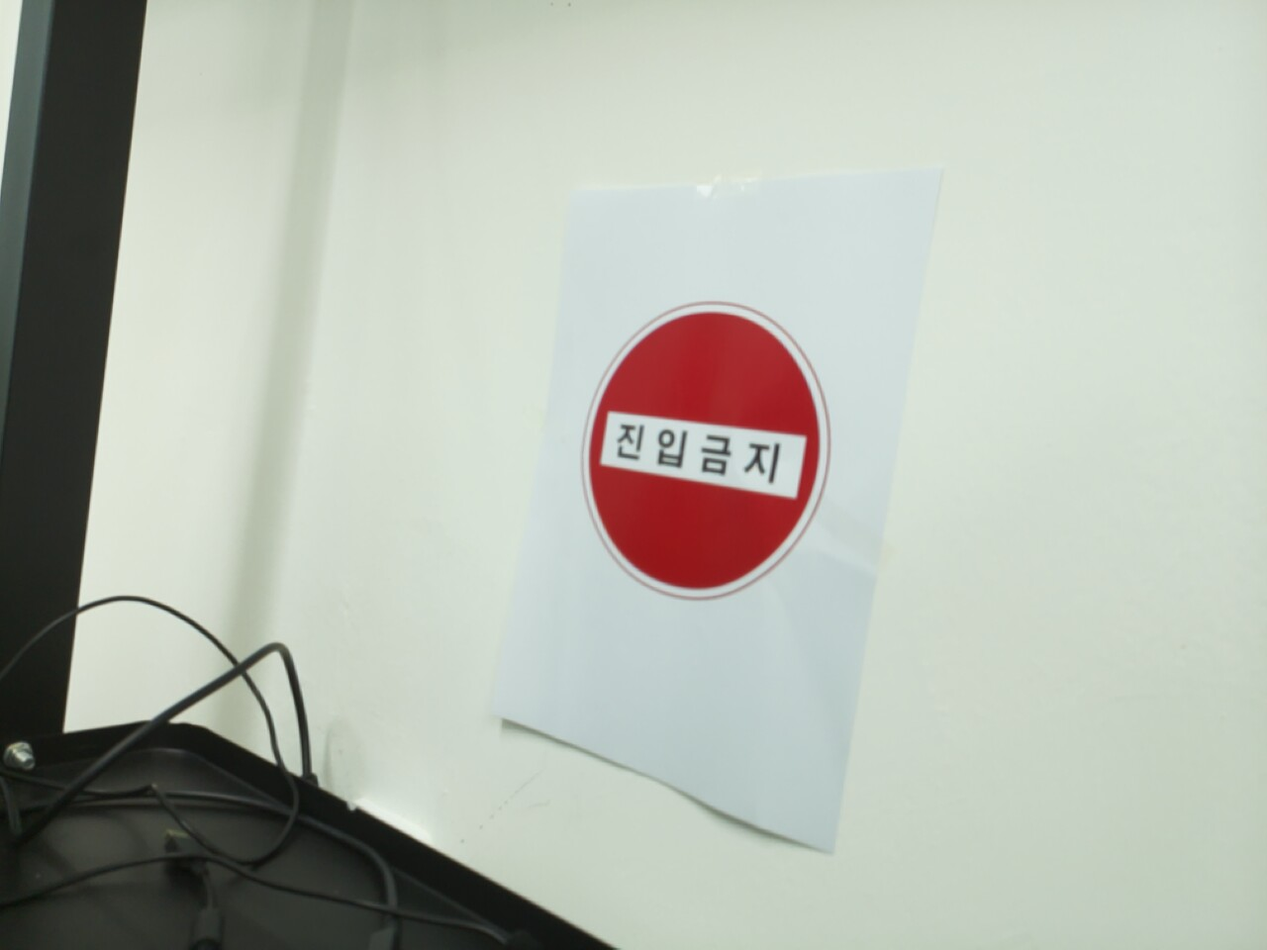do_not_enter: (581, 303, 828, 599)
